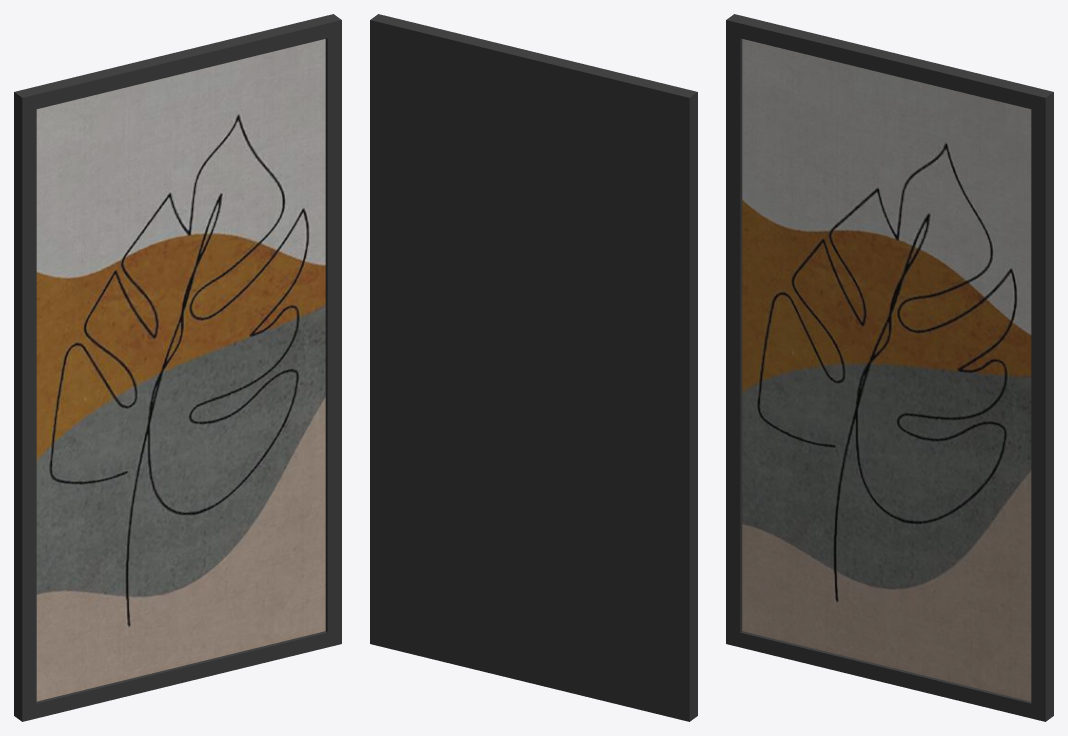
File: Table_B.FBX
3 renders of one model, left to right at view 1: azimuth 30°, elevation 25°; view 2: azimuth 150°, elevation 25°; view 3: azimuth 330°, elevation 25°, orthographic.
Visible parts, largest first — view 1: Table_B; view 2: Table_B; view 3: Table_B.
Part boxes in pixels (box(x1,y1,x2,y2)): Table_B: box(14, 14, 341, 721); Table_B: box(370, 14, 697, 721); Table_B: box(726, 14, 1053, 721).
Size of the model in its own units: 35.38 by 66.04 by 1.57.
1 material, 1 textured.
